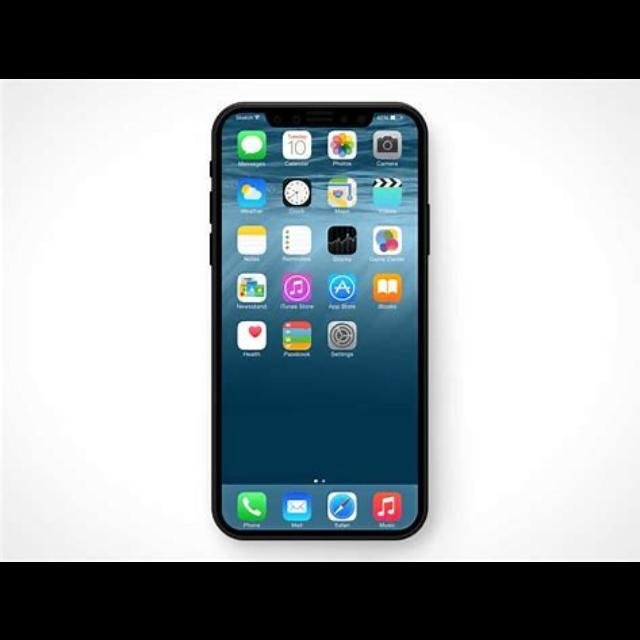Smartphone: (208, 98, 432, 542)
